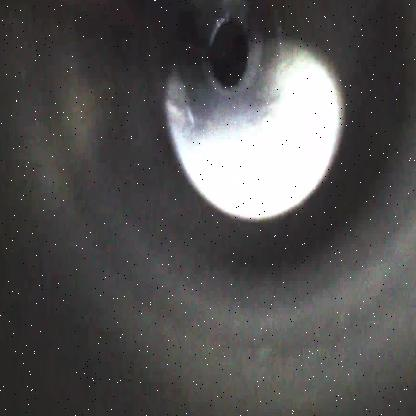NoCrack: (164, 0, 346, 223)
